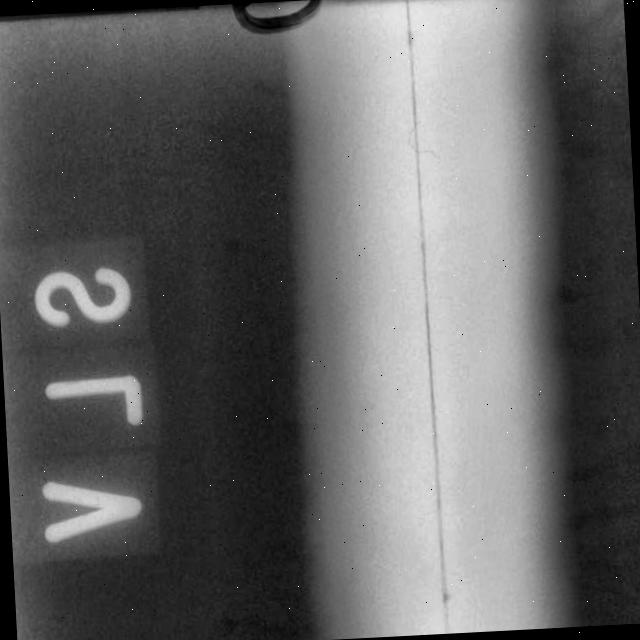LoP-LoF: (378, 0, 482, 635)
